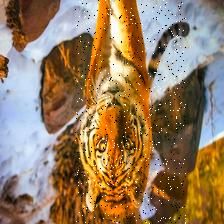tiger: (75, 0, 186, 224)
